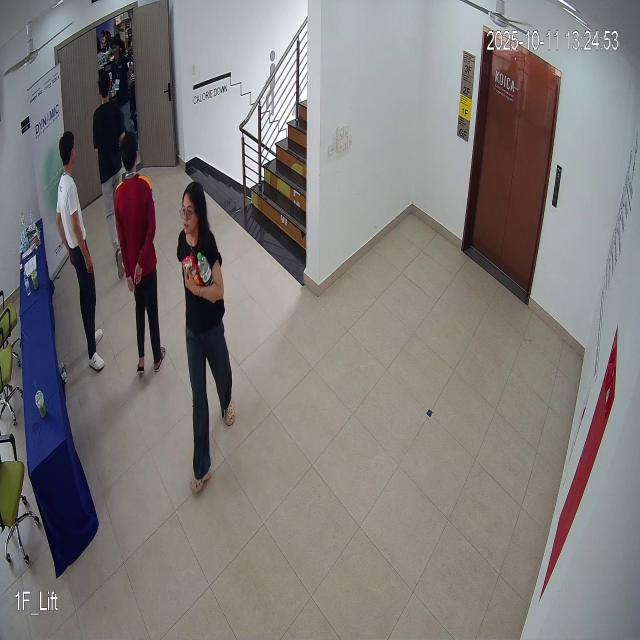face: (176, 176, 212, 250)
